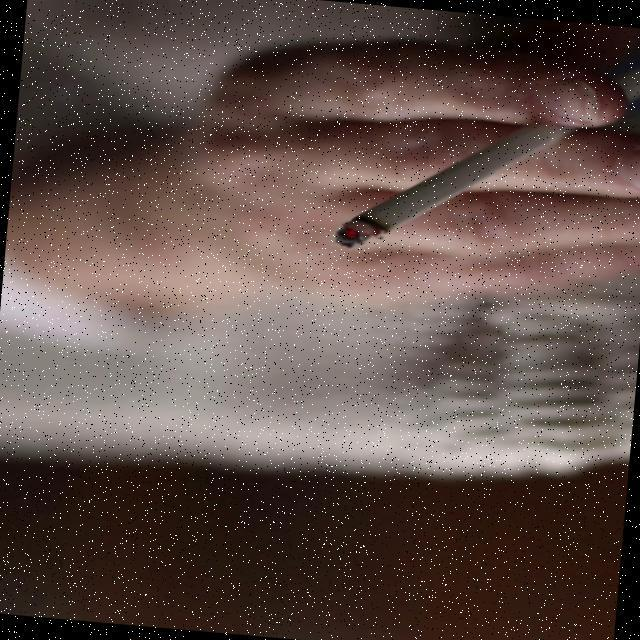cigarette: (320, 107, 574, 268)
